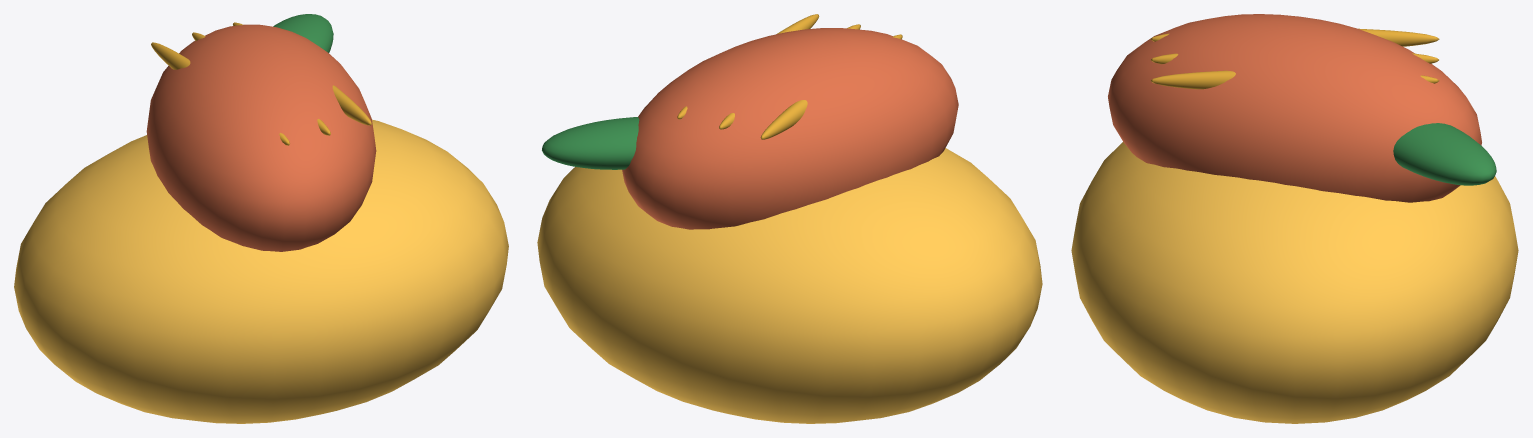
Rendered from tile_cacao.fbx.
3 renders of one model, left to right at view 1: azimuth 30°, elevation 25°; view 2: azimuth 150°, elevation 25°; view 3: azimuth 270°, elevation 25°, orthographic. The views are drawn at different scales.
Parts seen in each view (by area): view 1: Glazed body, Cacao pod, Leaf, Pod ridge, Pod ridge.002; view 2: Glazed body, Cacao pod, Leaf, Pod ridge; view 3: Glazed body, Cacao pod, Leaf, Pod ridge.002, Pod ridge.
Boxes of the visible parts, x1,y1,x2,y2 form: Glazed body: (14,119,508,423); Cacao pod: (146,24,376,251); Leaf: (273,14,333,52); Pod ridge: (151,42,289,145); Pod ridge.002: (233,22,371,125); Glazed body: (537,148,1042,423); Cacao pod: (622,28,958,229); Leaf: (542,117,639,169); Pod ridge: (760,34,902,139); Glazed body: (1071,142,1518,423); Cacao pod: (1108,14,1481,202); Leaf: (1393,123,1496,185); Pod ridge.002: (1150,70,1439,89); Pod ridge: (1150,28,1439,46).
Bounding box in the file's own units: 0.82 × 0.59 × 0.68.
